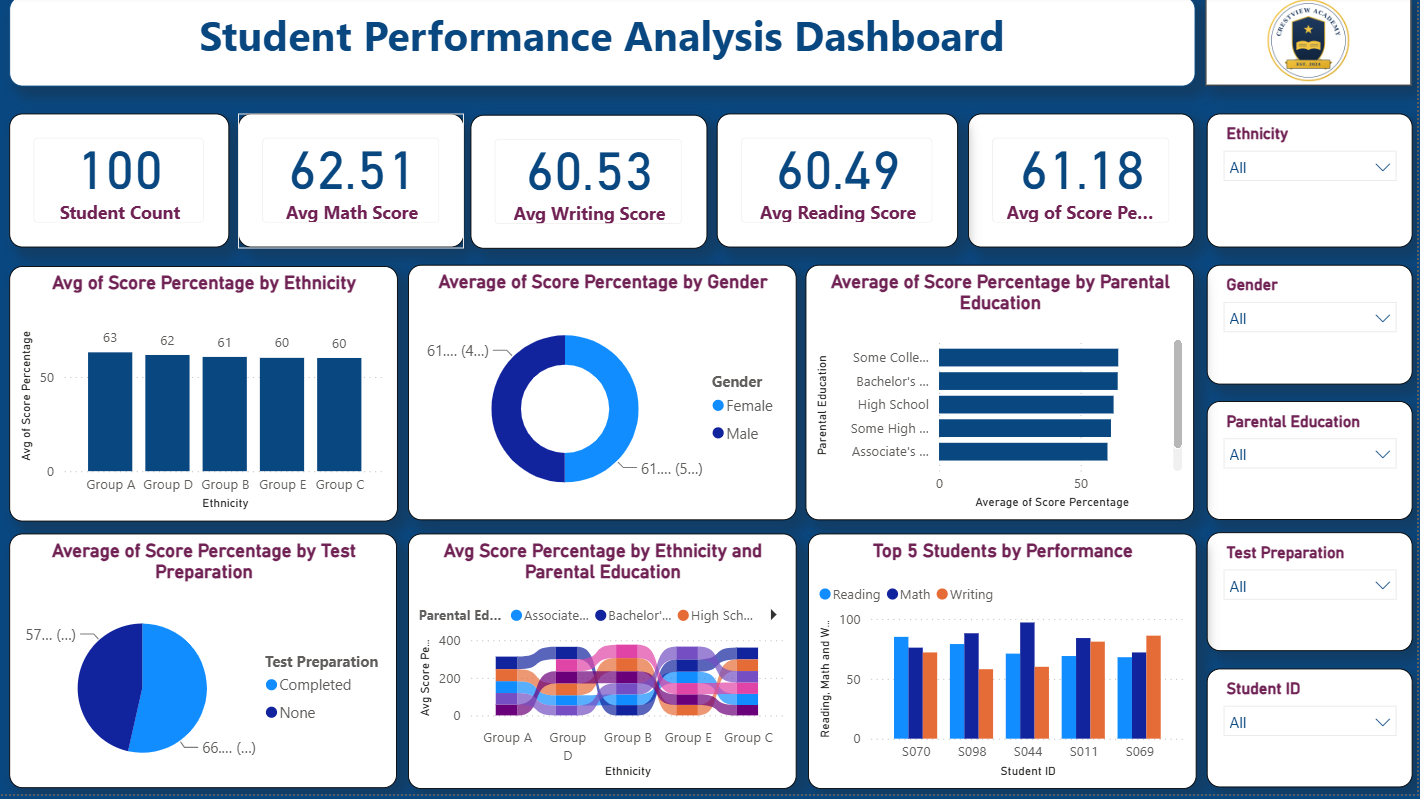

This screenshot's page, from the dashboard's own definition file:
{"tool":"powerbi","page":{"name":"All subjects Dashboard","canvas":[1280,720],"ordinal":0},"visuals":[{"type":"textbox","box":[9.6,0,1069.4,81.3],"z":0},{"type":"image","box":[1088.3,0,185.9,80.7],"z":1000},{"type":"cardVisual","fields":{"Data":["Count(Marks.Student ID)"]},"box":[9.8,106.4,198.1,121.1],"z":2000},{"type":"cardVisual","fields":{"Data":["Avg(Marks.Score Percentage)"]},"box":[874.3,106.4,204.2,121.1],"z":3000},{"type":"cardVisual","fields":{"Data":["Avg(Marks.Math Score)"]},"box":[216.4,106.4,204.2,121.1],"z":4000},{"type":"cardVisual","fields":{"Data":["Avg(Marks.Writing Score)"]},"box":[425.5,107.6,214,121.1],"z":5000},{"type":"cardVisual","fields":{"Data":["Avg(Marks.Reading Score)"]},"box":[648.1,106.4,217.7,121.1],"z":6000},{"type":"slicer","fields":{"Values":["Marks.Ethnicity"]},"box":[1089.5,106.4,185.9,121.1],"z":7000},{"type":"slicer","fields":{"Values":["Marks.Gender"]},"box":[1090.1,242.6,185.9,107.6],"z":8000},{"type":"slicer","fields":{"Values":["Marks.Parental Education"]},"box":[1089.5,365.6,185.9,107],"z":9000},{"type":"columnChart","fields":{"Category":["Marks.Ethnicity"],"Y":["Avg(Marks.Score Percentage)"]},"box":[9.8,243.3,350,230],"z":10000},{"type":"donutChart","fields":{"Category":["Marks.Gender"],"Y":["Avg(Marks.Score Percentage)"]},"box":[369.3,242.1,350,230],"z":11000},{"type":"clusteredBarChart","fields":{"Category":["Marks.Parental Education"],"Y":["Avg(Marks.Score Percentage)"]},"box":[727.7,242.6,350,230],"z":12000},{"type":"pieChart","fields":{"Y":["Avg(Marks.Score Percentage)"],"Category":["Marks.Test Preparation"]},"box":[9.8,484.2,349.7,229.9],"z":13000},{"type":"ribbonChart","fields":{"Category":["Marks.Ethnicity"],"Y":["Avg(Marks.Score Percentage)"],"Series":["Marks.Parental Education"]},"box":[369.3,484.2,350,230],"z":14000},{"type":"slicer","fields":{"Values":["Marks.Test Preparation"]},"box":[1090.1,483.7,185.9,107],"z":15000},{"type":"clusteredColumnChart","title":"Top 5 Students by Performance","fields":{"Y":["Avg(Marks.Reading Score)","Avg(Marks.Math Score)","Avg(Marks.Writing Score)"],"Category":["Marks.Student ID"]},"box":[730,484.2,350,230],"z":16000},{"type":"slicer","fields":{"Values":["Marks.Student ID"]},"box":[1090.1,606.4,185.9,107],"z":17000}]}

Visuals, with their boxes in screenshot pixels (x1, y1, x2, y2), scaled from the page's 1280x720 canvas onto the 1420x799 screenshot:
textbox: select_region(11, 0, 1197, 90)
image: select_region(1207, 0, 1414, 90)
cardVisual - Count(Marks.Student ID): select_region(11, 118, 231, 252)
cardVisual - Avg(Marks.Score Percentage): select_region(970, 118, 1196, 252)
cardVisual - Avg(Marks.Math Score): select_region(240, 118, 467, 252)
cardVisual - Avg(Marks.Writing Score): select_region(472, 119, 709, 254)
cardVisual - Avg(Marks.Reading Score): select_region(719, 118, 960, 252)
slicer - Marks.Ethnicity: select_region(1209, 118, 1415, 252)
slicer - Marks.Gender: select_region(1209, 269, 1416, 389)
slicer - Marks.Parental Education: select_region(1209, 406, 1415, 524)
columnChart - Marks.Ethnicity x Avg(Marks.Score Percentage): select_region(11, 270, 399, 525)
donutChart - Marks.Gender x Avg(Marks.Score Percentage): select_region(410, 269, 798, 524)
clusteredBarChart - Marks.Parental Education x Avg(Marks.Score Percentage): select_region(807, 269, 1196, 524)
pieChart - Avg(Marks.Score Percentage) x Marks.Test Preparation: select_region(11, 537, 399, 792)
ribbonChart - Marks.Ethnicity x Avg(Marks.Score Percentage): select_region(410, 537, 798, 793)
slicer - Marks.Test Preparation: select_region(1209, 537, 1416, 656)
"Top 5 Students by Performance" clusteredColumnChart: select_region(810, 537, 1198, 793)
slicer - Marks.Student ID: select_region(1209, 673, 1416, 792)
